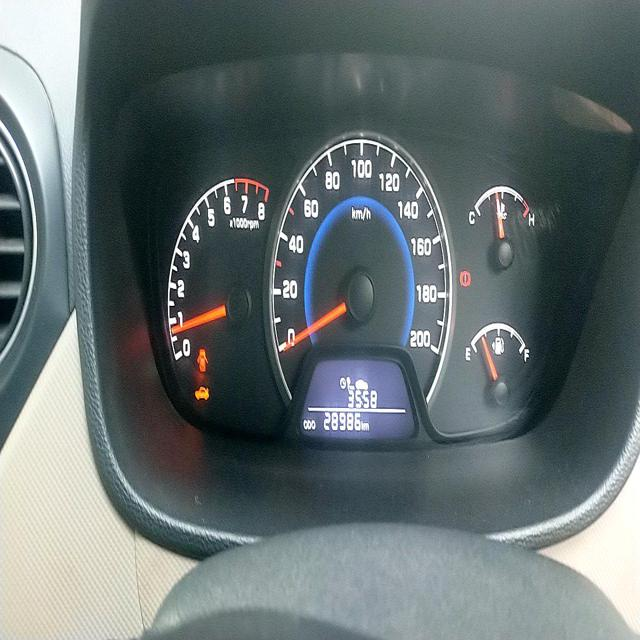odometer: (319, 408, 363, 436)
